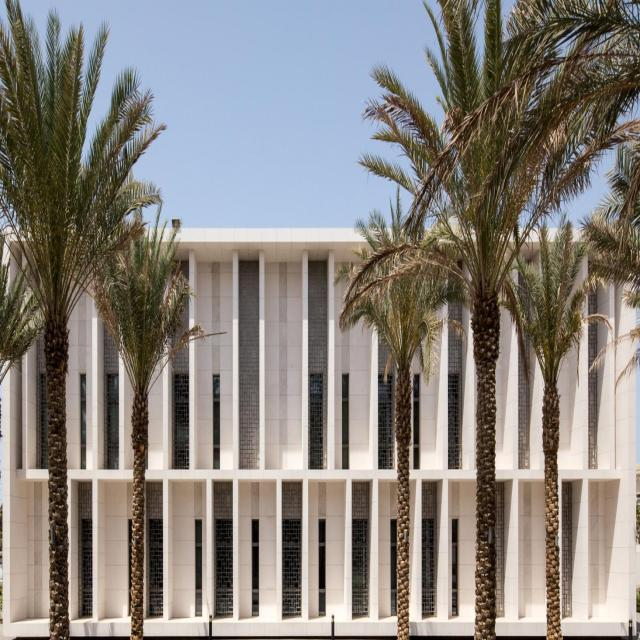plant: (333, 0, 640, 639), (0, 0, 167, 637), (92, 218, 209, 638), (505, 215, 614, 639), (573, 135, 640, 376)
wall: (2, 227, 640, 638)
windows: (284, 519, 300, 614), (79, 515, 93, 614), (449, 374, 463, 472), (107, 372, 120, 471), (150, 514, 163, 613), (311, 370, 324, 469), (176, 371, 189, 469), (217, 520, 230, 618), (353, 519, 366, 617), (379, 373, 392, 471), (425, 519, 438, 617), (213, 375, 221, 470), (81, 374, 88, 470), (251, 520, 258, 614), (342, 375, 349, 468), (196, 518, 202, 614), (319, 518, 325, 613), (452, 521, 458, 614)
